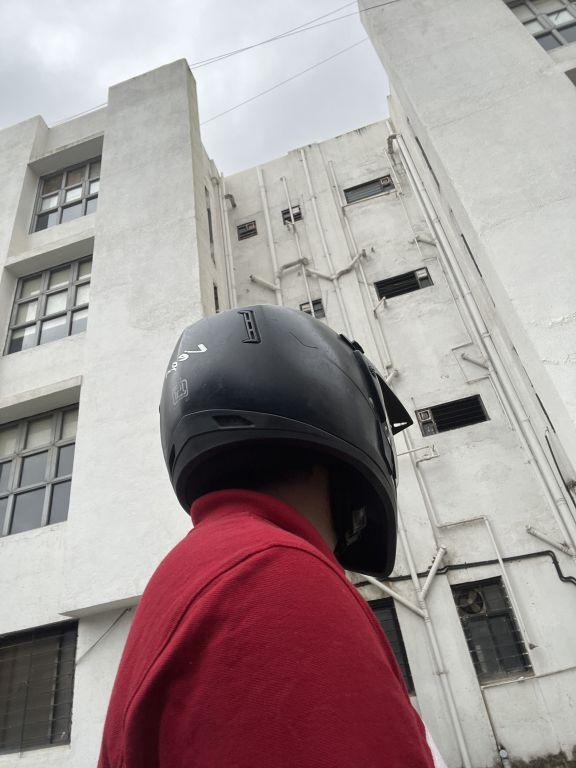helmet: (152, 290, 433, 601)
